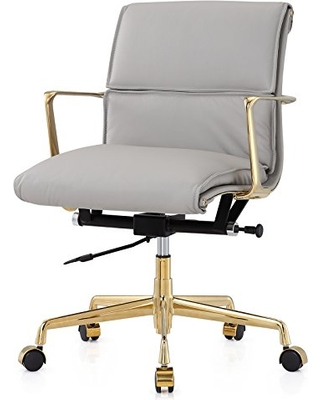chairs: (1, 1, 317, 394)
